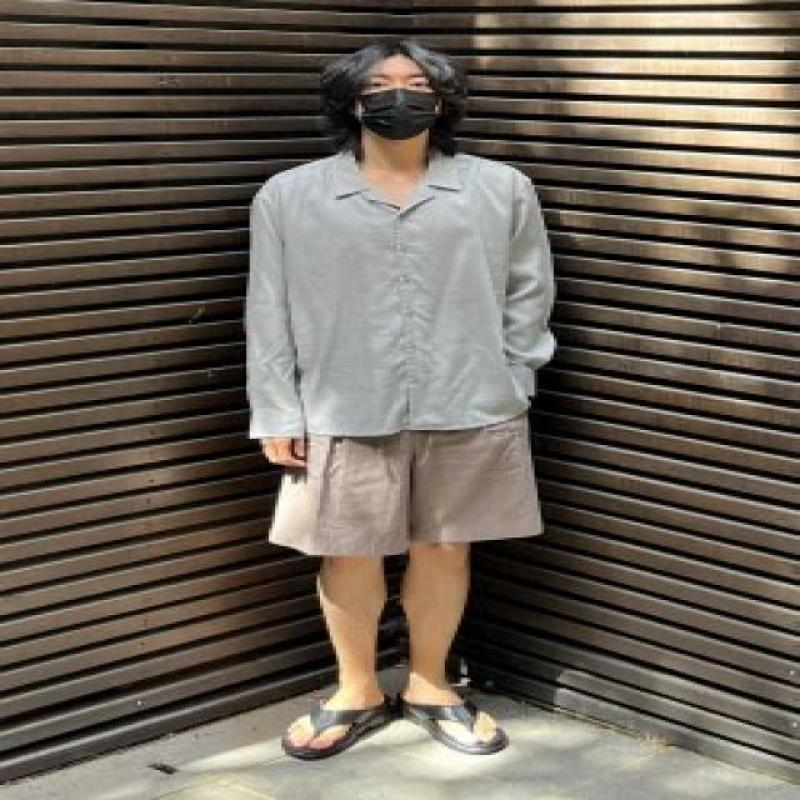Shorts: (265, 414, 544, 557)
long sleeve shirt: (242, 150, 557, 443)
